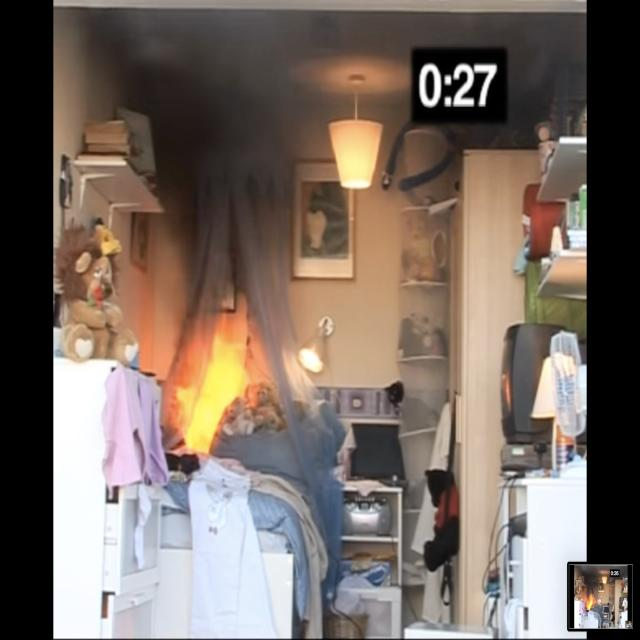Fogo: (144, 278, 286, 508)
